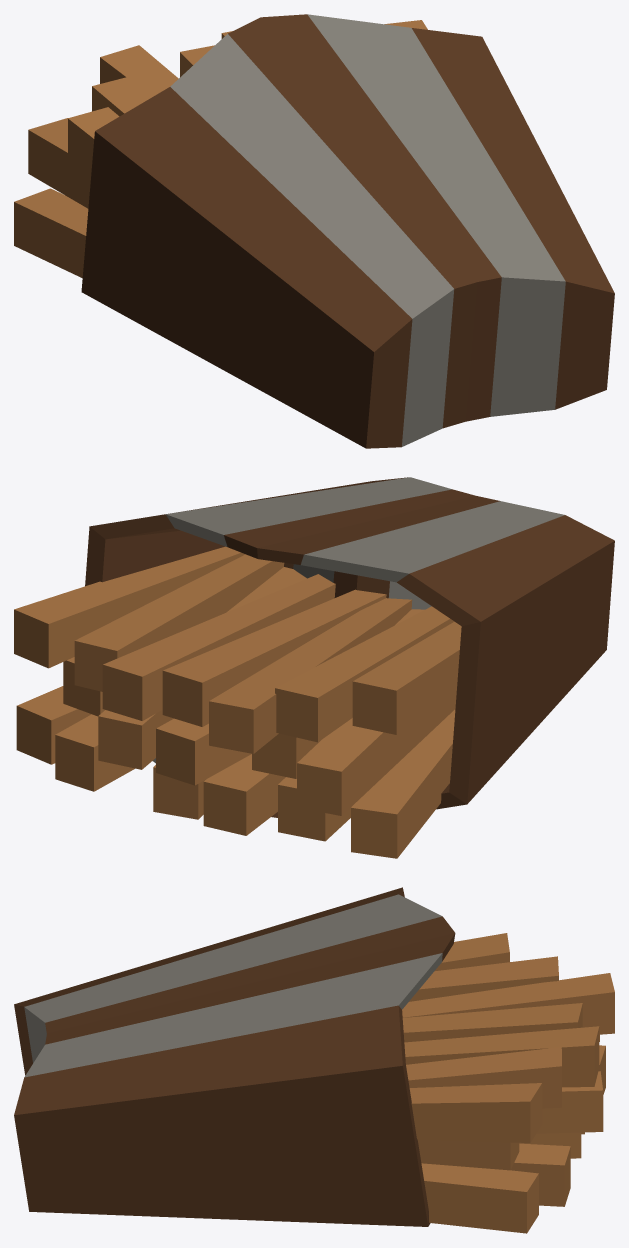
File: cc0-fries-lod0.glb
3 renders of one model, top to bottom at view 1: azimuth 30°, elevation 25°; view 2: azimuth 150°, elevation 25°; view 3: azimuth 270°, elevation 25°, orthographic. The views are drawn at different scales.
Visible parts, largest first — view 1: part_0; view 2: part_0; view 3: part_0.
Part boxes in pixels (<box>): part_0: <box>14,14,614,448</box>; part_0: <box>14,477,614,858</box>; part_0: <box>14,887,614,1233</box>.
Bounding box in the file's own units: 0.9488 × 0.5857 × 1.33.
